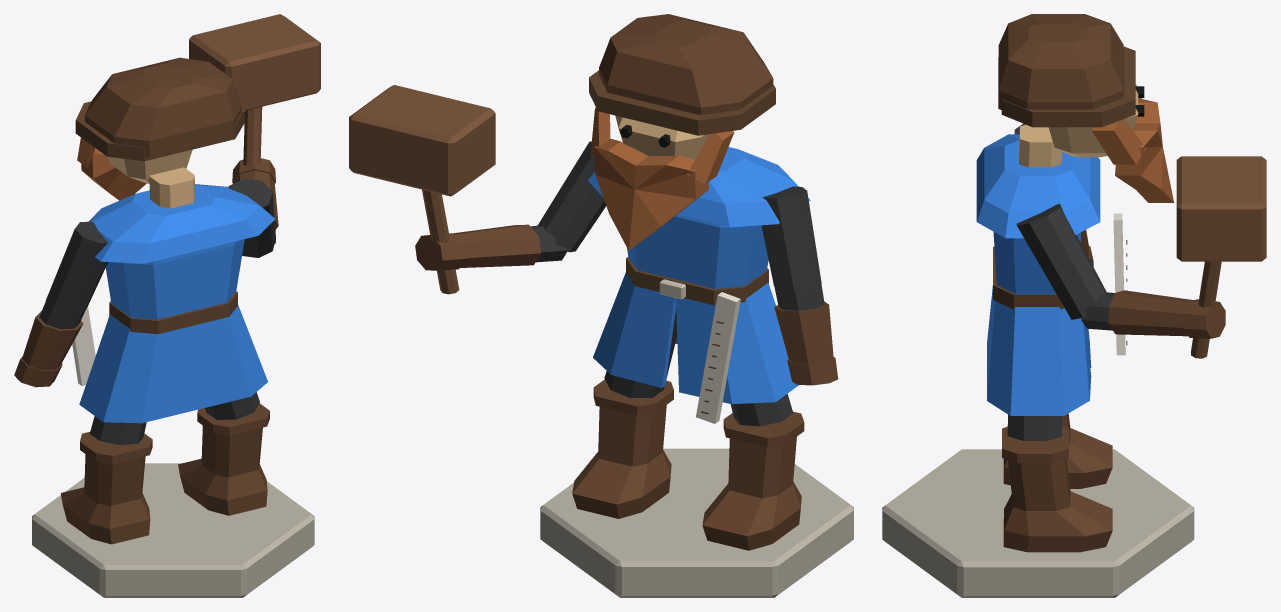
Rendered from human_runebreaker_t1.glb.
3 views of the same model, side by side, from view 1: azimuth 30°, elevation 25°; view 2: azimuth 150°, elevation 25°; view 3: azimuth 270°, elevation 25° (orthographic). The views are drawn at different scales.
Parts seen in each view (by area): view 1: Foundation_Hexagonal_Stone, Continuous_Split_Tunic_Skirt, engineer_plain_faceted_workcap, Continuous_Shoulder_Mantle, engineer_whole_wooden_mallet_head, Continuous_Tunic_Bodice, Boot_1, Boot_-1, left_upper_sleeve, left_bracer, Waist_Belt, engineer_broad_brown_cap_band (+14 smaller); view 2: Foundation_Hexagonal_Stone, engineer_plain_faceted_workcap, engineer_whole_wooden_mallet_head, Boot_-1, Boot_1, engineer_one_copper_beard_wedge, Continuous_Tunic_Bodice, Continuous_Split_Tunic_Skirt, Continuous_Shoulder_Mantle, Split_Tunic_Front_1, left_upper_sleeve, engineer_broad_brown_cap_band (+17 smaller); view 3: Foundation_Hexagonal_Stone, engineer_plain_faceted_workcap, Continuous_Split_Tunic_Skirt, engineer_whole_wooden_mallet_head, Continuous_Shoulder_Mantle, Boot_1, right_upper_sleeve, engineer_broad_brown_cap_band, right_bracer, engineer_one_copper_beard_wedge, Continuous_Tunic_Bodice, Boot_-1 (+10 smaller).
Boxes of the visible parts, box(x1,y1,x2,y2) form: Foundation_Hexagonal_Stone: box(32, 463, 314, 597); Continuous_Split_Tunic_Skirt: box(79, 305, 267, 423); engineer_plain_faceted_workcap: box(85, 57, 241, 157); Continuous_Shoulder_Mantle: box(89, 184, 275, 263); engineer_whole_wooden_mallet_head: box(189, 14, 320, 110); Continuous_Tunic_Bodice: box(105, 239, 244, 319); Boot_1: box(178, 425, 267, 515); Boot_-1: box(60, 454, 150, 544); left_upper_sleeve: box(45, 221, 107, 313); left_bracer: box(22, 310, 83, 370); Waist_Belt: box(109, 291, 237, 334); engineer_broad_brown_cap_band: box(75, 101, 244, 161); Foundation_Hexagonal_Stone: box(540, 448, 853, 597); engineer_plain_faceted_workcap: box(599, 14, 773, 115); engineer_whole_wooden_mallet_head: box(349, 85, 495, 196); Boot_-1: box(702, 437, 801, 550); Boot_1: box(572, 405, 671, 518); engineer_one_copper_beard_wedge: box(594, 138, 708, 250); Continuous_Tunic_Bodice: box(627, 214, 768, 288); Continuous_Split_Tunic_Skirt: box(593, 272, 798, 403); Continuous_Shoulder_Mantle: box(588, 147, 810, 227); Split_Tunic_Front_1: box(610, 286, 676, 387); left_upper_sleeve: box(761, 186, 821, 290); engineer_broad_brown_cap_band: box(589, 70, 775, 135); Foundation_Hexagonal_Stone: box(882, 449, 1194, 597); engineer_plain_faceted_workcap: box(998, 14, 1123, 109); Continuous_Split_Tunic_Skirt: box(987, 286, 1088, 415); engineer_whole_wooden_mallet_head: box(1176, 156, 1266, 261); Continuous_Shoulder_Mantle: box(976, 134, 1100, 238); Boot_1: box(1003, 459, 1112, 552); right_upper_sleeve: box(1016, 204, 1106, 319); engineer_broad_brown_cap_band: box(1001, 46, 1135, 127); right_bracer: box(1108, 290, 1193, 336); engineer_one_copper_beard_wedge: box(1115, 99, 1173, 202); Continuous_Tunic_Bodice: box(993, 232, 1080, 294); Boot_-1: box(1003, 413, 1112, 488).
Size of the model in its own units: 1.33 by 1.68 by 1.14.
